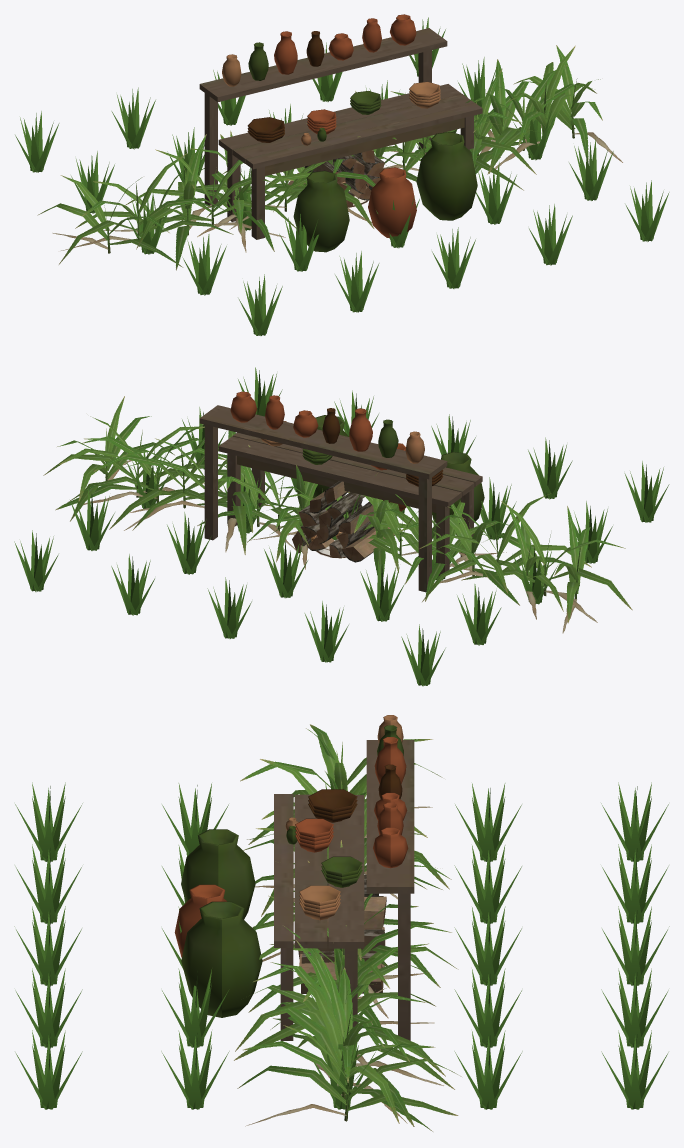
3 renders of one model, top to bottom at view 1: azimuth 30°, elevation 25°; view 2: azimuth 150°, elevation 25°; view 3: azimuth 270°, elevation 25°, orthographic. The views are drawn at different scales.
Visible parts, largest first — view 1: pottery_stall_mesh, young, rice, log_stack; view 2: young, pottery_stall_mesh, rice, log_stack; view 3: pottery_stall_mesh, rice, young, log_stack.
Boxes of the visible parts, box(x1,y1,x2,y2) form: pottery_stall_mesh: box(199, 14, 482, 252); young: box(37, 45, 622, 270); rice: box(15, 17, 669, 335); log_stack: box(287, 150, 384, 207); young: box(43, 396, 632, 633); pottery_stall_mesh: box(199, 391, 484, 592); rice: box(14, 367, 669, 686); log_stack: box(292, 481, 394, 562); pottery_stall_mesh: box(174, 715, 414, 1040); rice: box(14, 782, 669, 1109); young: box(234, 724, 461, 1131); log_stack: box(298, 874, 386, 993).
Size of what is drawn, in the model's own units: 4.71 by 1.32 by 3.58.
5 materials, 4 textured.
